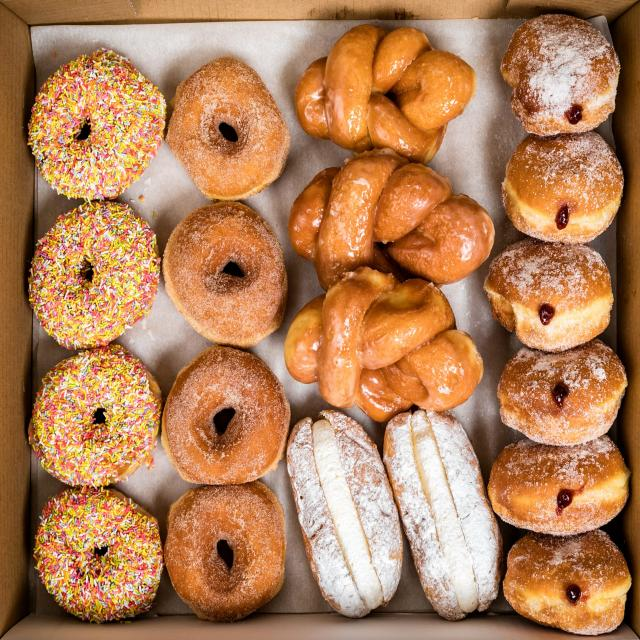donut: (28, 47, 162, 196), (160, 200, 292, 347), (160, 341, 292, 483), (32, 350, 160, 491), (30, 203, 156, 345), (168, 53, 290, 199), (34, 487, 164, 624), (162, 483, 289, 617)
